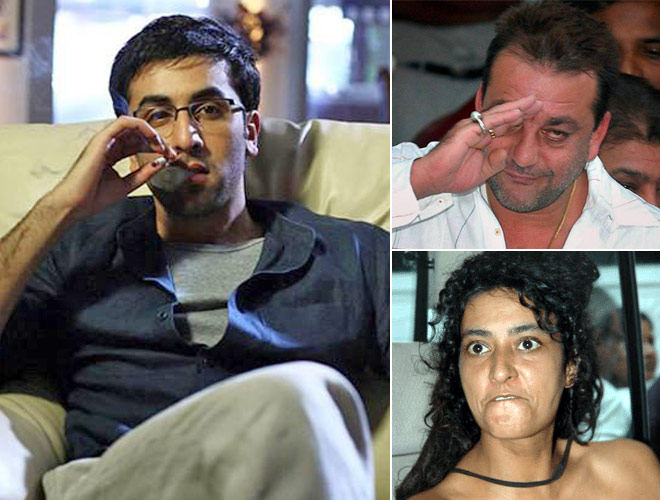cigarette: (138, 145, 191, 179)
